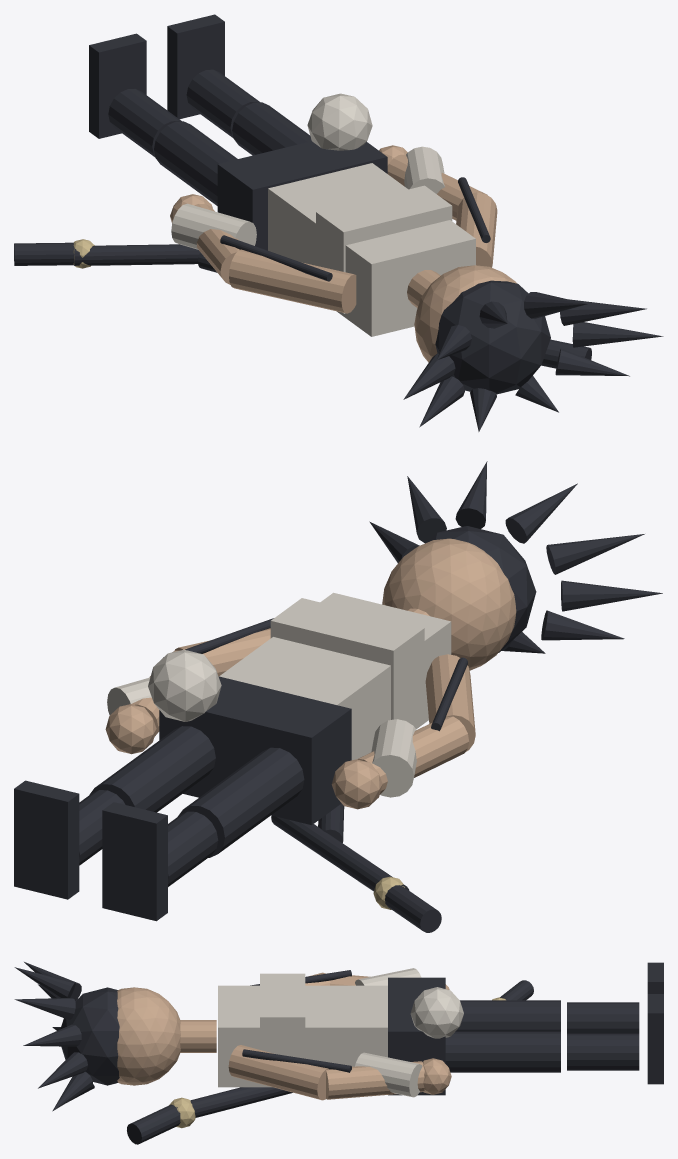
Rendered from 04_hayami_cutting_wind.glb.
The picture shows the model from 3 angles, top to bottom: view 1: azimuth 30°, elevation 25°; view 2: azimuth 150°, elevation 25°; view 3: azimuth 270°, elevation 25°; orthographic projection. The views are drawn at different scales.
Visible parts, largest first — view 1: hayami_torso, hayami_hair_cap, hayami_hips, hayami_bandage_top, hayami_upper_arm_-1, hayami_shoe_-1, hayami_shoe_1, hayami_upper_leg_-1, hayami_head, hayami_oni_mask_waist, hayami_upper_leg_1, hayami_lower_leg_1 (+22 smaller); view 2: hayami_hips, hayami_torso, hayami_head, hayami_bandage_top, hayami_shoe_-1, hayami_shoe_1, hayami_upper_leg_-1, hayami_upper_leg_1, hayami_oni_mask_waist, hayami_hair_cap, hayami_hand_wrap_-1, hayami_hip_sheath (+18 smaller); view 3: hayami_torso, hayami_head, hayami_upper_leg_1, hayami_hair_cap, hayami_bandage_top, hayami_hips, hayami_upper_leg_-1, hayami_upper_arm_1, hayami_lower_leg_1, hayami_lower_leg_-1, hayami_oni_mask_waist, hayami_forearm_1 (+18 smaller).
Part boxes in pixels (bbox=[...]): hayami_torso: bbox=[268, 163, 475, 336]; hayami_hair_cap: bbox=[435, 280, 550, 394]; hayami_hips: bbox=[217, 141, 387, 250]; hayami_bandage_top: bbox=[316, 185, 452, 313]; hayami_upper_arm_-1: bbox=[229, 249, 356, 313]; hayami_shoe_-1: bbox=[89, 33, 146, 138]; hayami_shoe_1: bbox=[167, 14, 224, 119]; hayami_upper_leg_-1: bbox=[154, 121, 237, 205]; hayami_head: bbox=[414, 265, 516, 362]; hayami_oni_mask_waist: bbox=[307, 93, 372, 150]; hayami_upper_leg_1: bbox=[232, 102, 311, 155]; hayami_lower_leg_1: bbox=[186, 69, 259, 138]; hayami_hips: bbox=[159, 676, 351, 825]; hayami_torso: bbox=[219, 592, 451, 760]; hayami_head: bbox=[382, 538, 516, 670]; hayami_bandage_top: bbox=[270, 598, 424, 727]; hayami_shoe_-1: bbox=[102, 802, 167, 921]; hayami_shoe_1: bbox=[14, 780, 79, 899]; hayami_upper_leg_-1: bbox=[177, 747, 304, 857]; hayami_upper_leg_1: bbox=[89, 726, 215, 812]; hayami_oni_mask_waist: bbox=[148, 649, 221, 721]; hayami_hair_cap: bbox=[426, 526, 536, 652]; hayami_hand_wrap_-1: bbox=[371, 719, 416, 797]; hayami_hip_sheath: bbox=[271, 815, 409, 891]; hayami_torso: bbox=[218, 985, 387, 1087]; hayami_head: bbox=[117, 987, 180, 1085]; hayami_upper_leg_1: bbox=[445, 1031, 560, 1072]; hayami_hair_cap: bbox=[60, 987, 119, 1085]; hayami_bandage_top: bbox=[260, 973, 305, 1084]; hayami_hips: bbox=[388, 977, 445, 1095]; hayami_upper_leg_-1: bbox=[455, 1000, 560, 1031]; hayami_upper_arm_1: bbox=[228, 1045, 328, 1100]; hayami_lower_leg_1: bbox=[567, 1033, 639, 1070]; hayami_lower_leg_-1: bbox=[567, 1002, 639, 1033]; hayami_oni_mask_waist: bbox=[410, 987, 463, 1038]; hayami_forearm_1: bbox=[326, 1061, 424, 1099].
Bounding box in the file's own units: 1.67 × 0.695 × 3.15.
